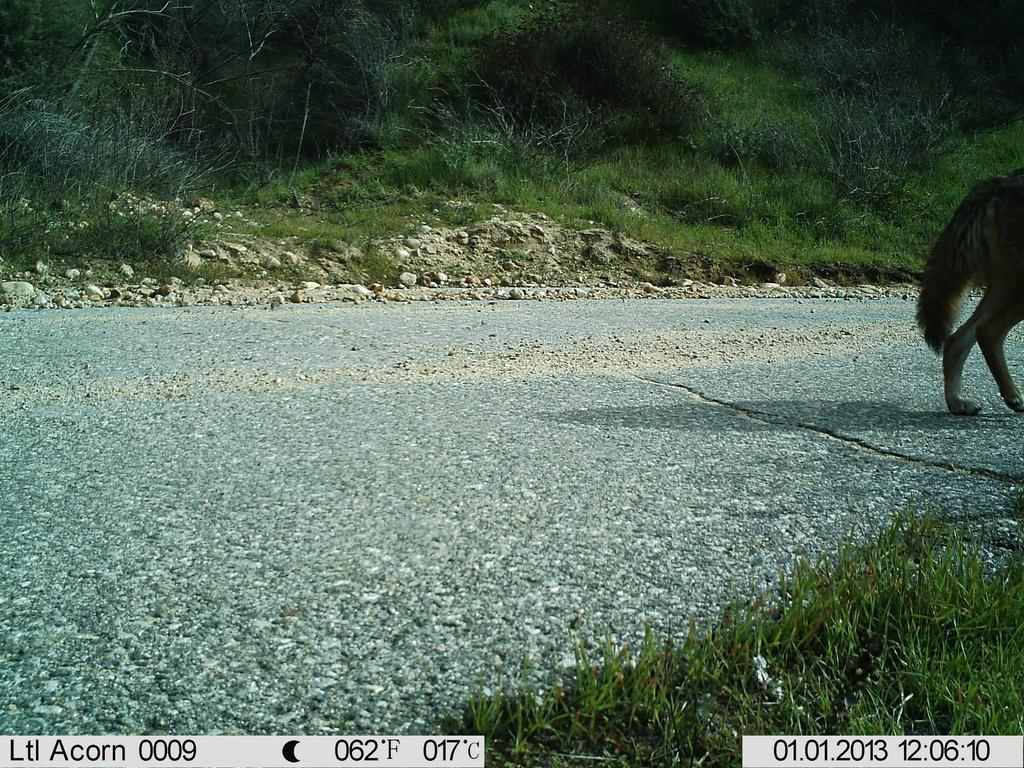coyote: (914, 172, 1022, 418)
